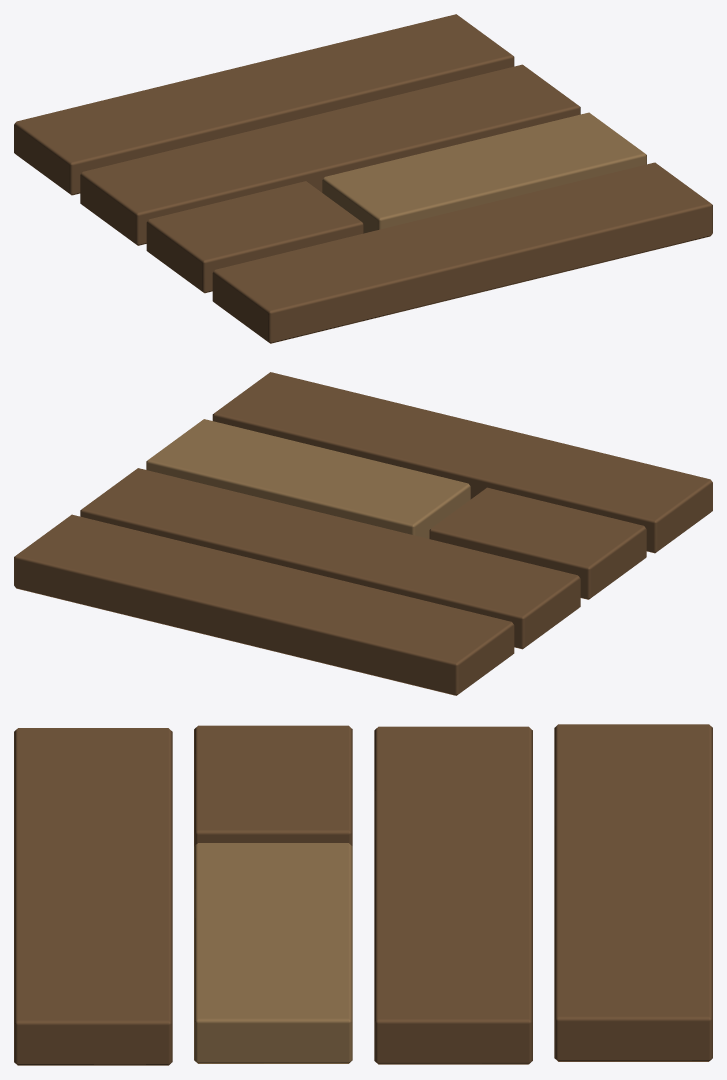
The model's file is railcar-planks-c.c680cdd7.glb.
The picture shows the model from 3 angles, top to bottom: view 1: azimuth 30°, elevation 25°; view 2: azimuth 150°, elevation 25°; view 3: azimuth 270°, elevation 25°; orthographic projection. The views are drawn at different scales.
Visible parts, largest first — view 1: body; view 2: body; view 3: body.
Part boxes in pixels (x1,y1,x2,y2): body: [14, 14, 712, 343]; body: [14, 372, 712, 695]; body: [14, 724, 712, 1065].
Bounding box in the file's own units: 0.9705 × 0.076 × 0.97.
